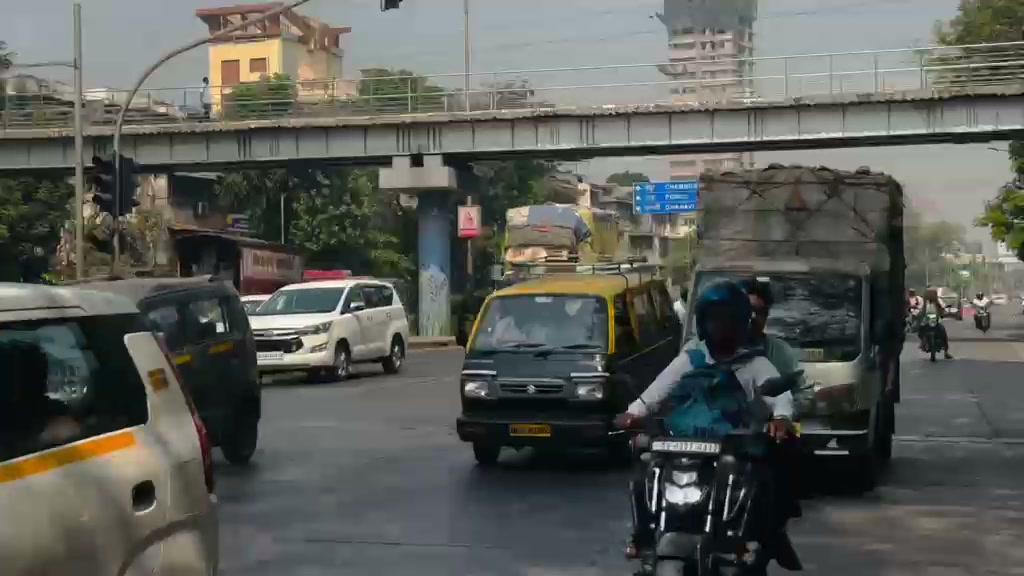bus: (684, 166, 908, 494)
car: (1, 281, 221, 569), (455, 261, 683, 469), (73, 276, 263, 466), (244, 277, 410, 381)
motorcycle: (616, 375, 803, 571)
pedestrian: (615, 278, 805, 570), (742, 279, 805, 388), (920, 288, 953, 361)
truck: (684, 164, 908, 493)
